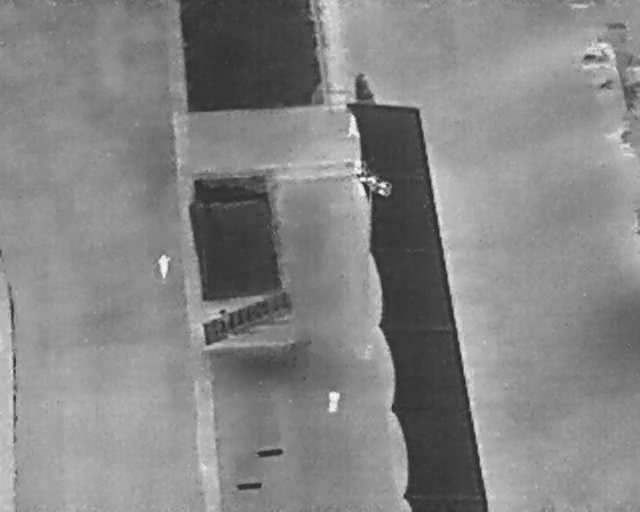Bicycle: (592, 74, 620, 99), (579, 48, 611, 67)
Person: (156, 252, 171, 280), (327, 388, 342, 415)
